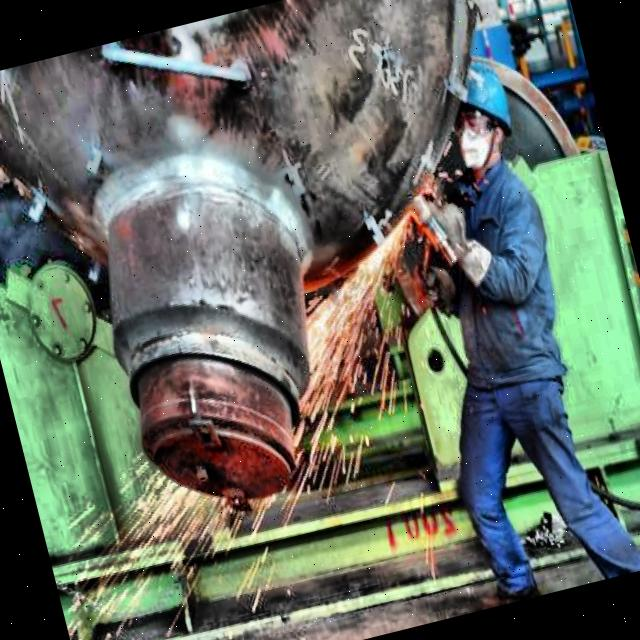helmet: (436, 46, 532, 180)
